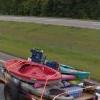Boat: (3, 48, 91, 89)
